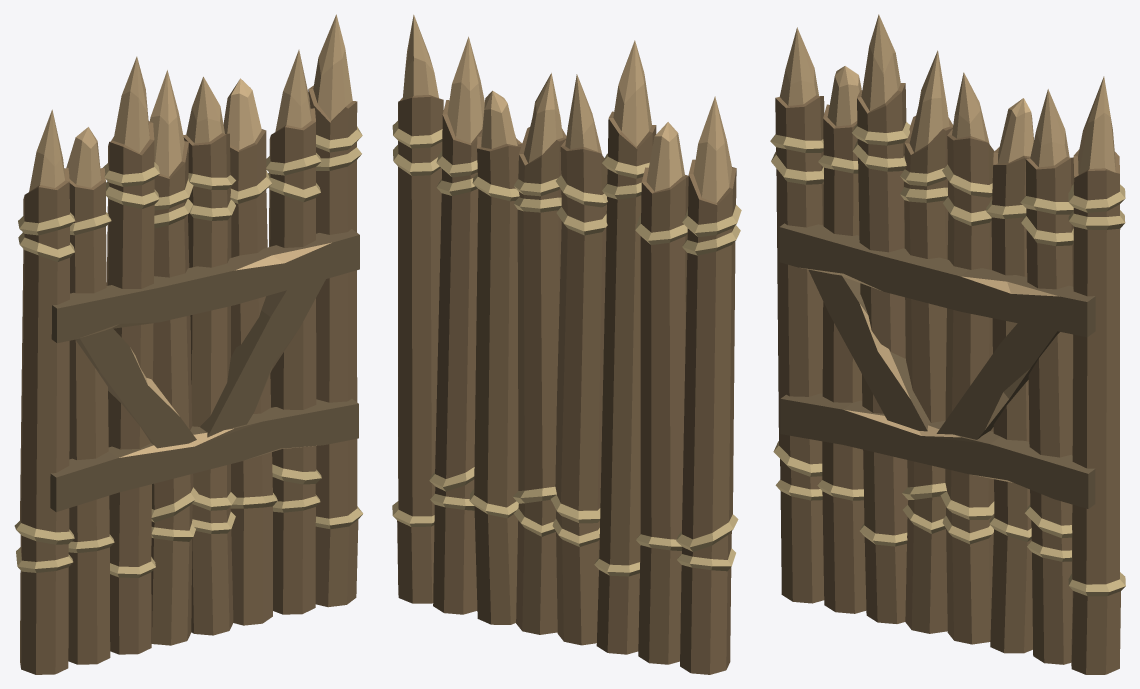
File: rpgpp_ag_stockade_01g_4x6.fbx
The picture shows the model from 3 angles, left to right: view 1: azimuth 30°, elevation 25°; view 2: azimuth 150°, elevation 25°; view 3: azimuth 330°, elevation 25°; orthographic projection.
Parts seen in each view (by area): view 1: rpgpp_ag_stockade_01g_4x6; view 2: rpgpp_ag_stockade_01g_4x6; view 3: rpgpp_ag_stockade_01g_4x6.
Boxes of the visible parts, <box> form: rpgpp_ag_stockade_01g_4x6: <box>14,14,363,674</box>; rpgpp_ag_stockade_01g_4x6: <box>392,14,741,674</box>; rpgpp_ag_stockade_01g_4x6: <box>770,14,1125,674</box>.
Bounding box in the file's own units: 4.14 × 6.92 × 0.8463.
